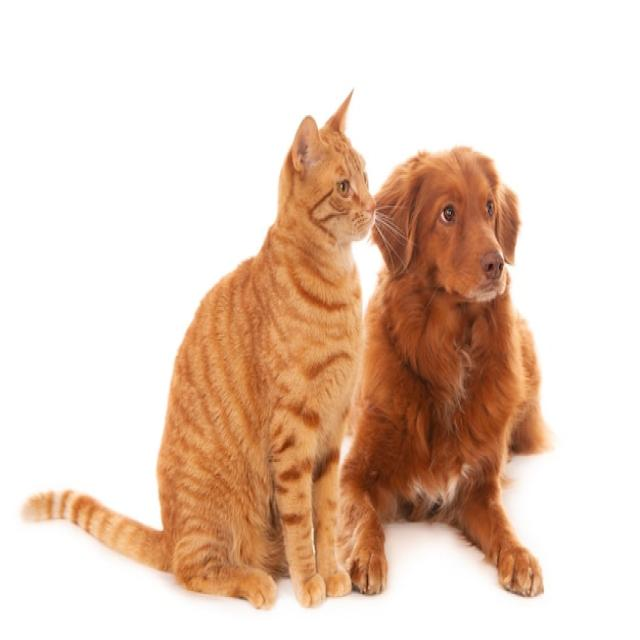Dog: (338, 146, 550, 596)
